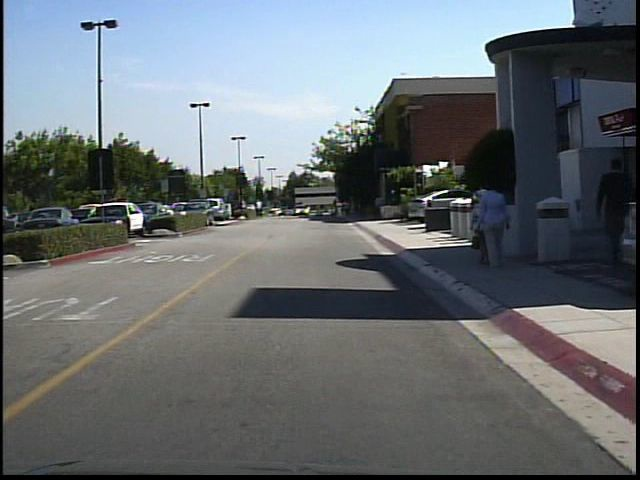person: (590, 152, 629, 268), (476, 178, 510, 270), (469, 179, 490, 270), (333, 198, 347, 223), (255, 196, 267, 221)
